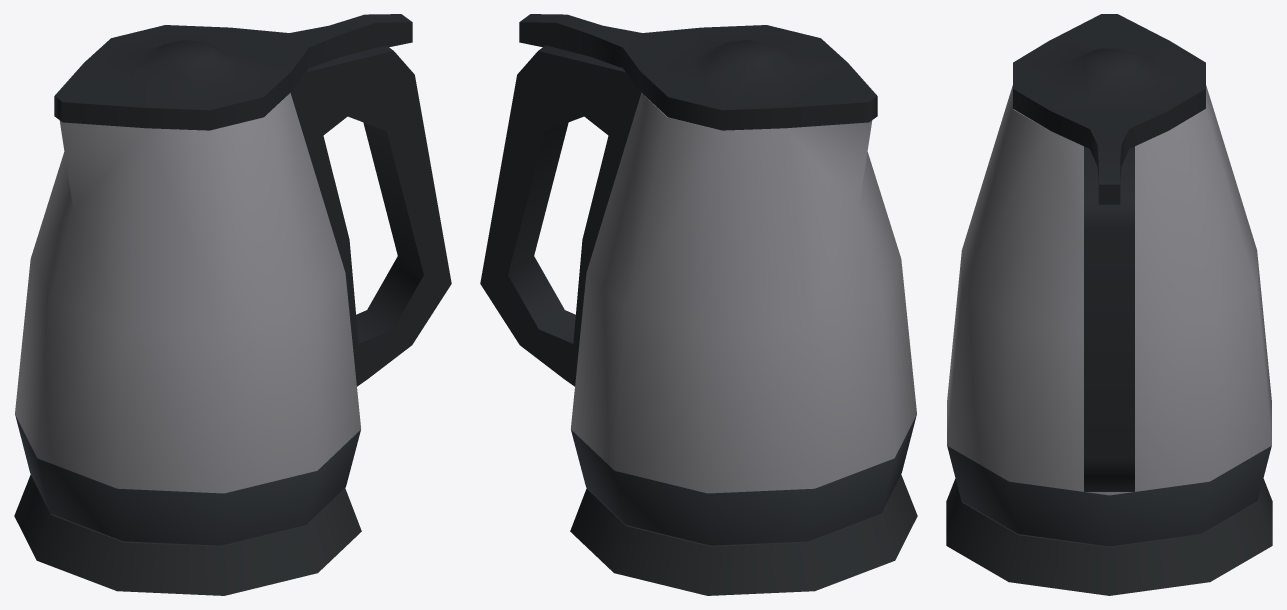
File: SM_Prop_Kettle_01.obj
3 views of the same model, side by side, from view 1: azimuth 30°, elevation 25°; view 2: azimuth 150°, elevation 25°; view 3: azimuth 270°, elevation 25° (orthographic).
Visible parts, largest first — view 1: SM_Prop_Kettle_01_Mat_SwatchOverlay_PolygonOffice_01_Inst; view 2: SM_Prop_Kettle_01_Mat_SwatchOverlay_PolygonOffice_01_Inst; view 3: SM_Prop_Kettle_01_Mat_SwatchOverlay_PolygonOffice_01_Inst.
Part boxes in pixels (left/top/right/bottom): SM_Prop_Kettle_01_Mat_SwatchOverlay_PolygonOffice_01_Inst: left=14, top=14, right=451, bottom=595; SM_Prop_Kettle_01_Mat_SwatchOverlay_PolygonOffice_01_Inst: left=480, top=14, right=917, bottom=595; SM_Prop_Kettle_01_Mat_SwatchOverlay_PolygonOffice_01_Inst: left=946, top=14, right=1272, bottom=595.
Bounding box in the file's own units: 0.6613 × 0.7427 × 0.4737.
Materials: 1 (1 with a texture image).
